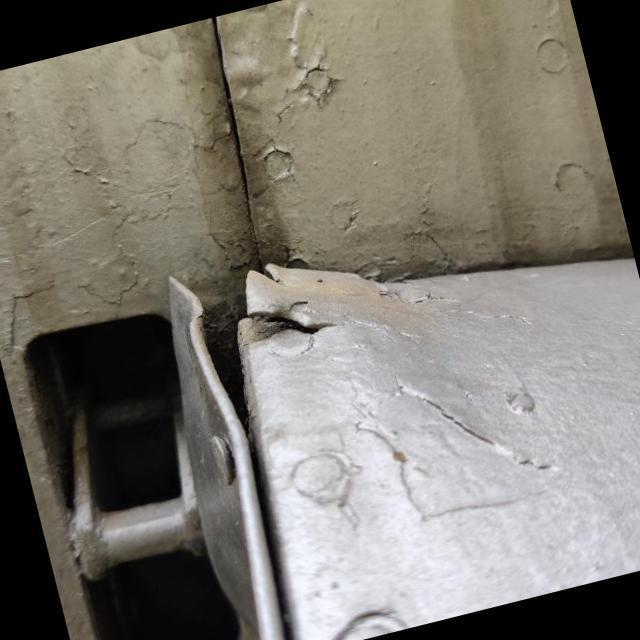Rupture: (230, 275, 359, 372)
